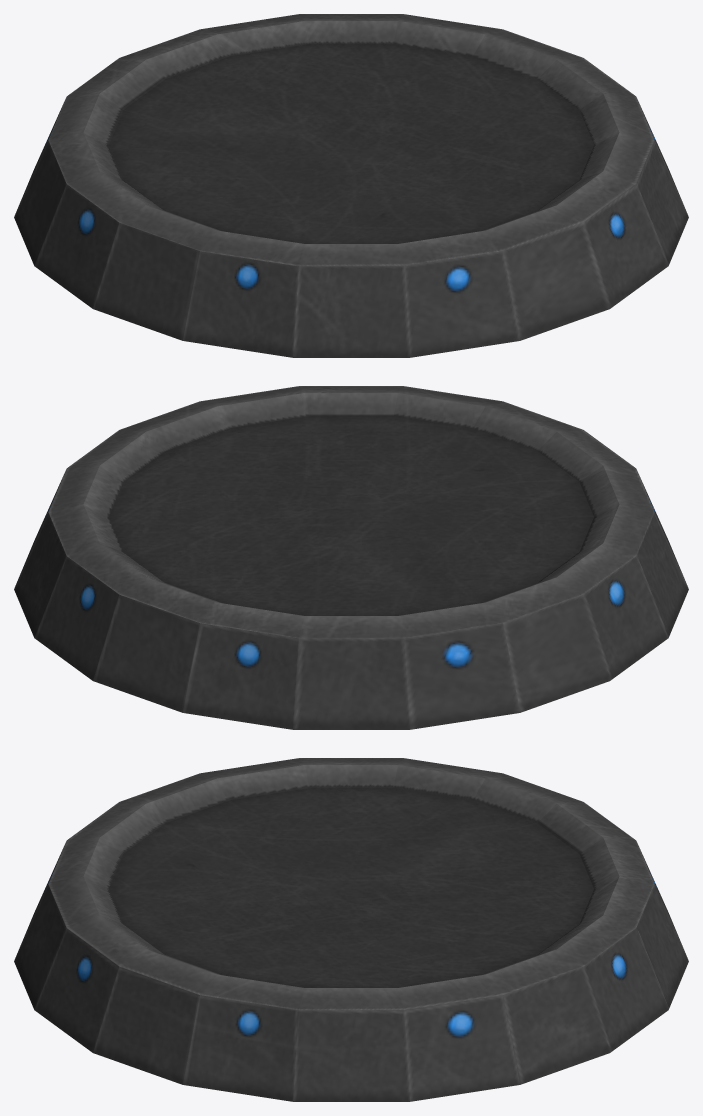
Rendered from platform.fbx.
3 views of the same model, one above another, from view 1: azimuth 30°, elevation 25°; view 2: azimuth 150°, elevation 25°; view 3: azimuth 270°, elevation 25° (orthographic).
Parts seen in each view (by area): view 1: Platform; view 2: Platform; view 3: Platform.
Boxes of the visible parts, x1,y1,x2,y2 form: Platform: (14,14,688,357); Platform: (14,386,688,729); Platform: (14,758,688,1101).
Bounding box in the file's own units: 4.57 × 0.6436 × 4.64.
